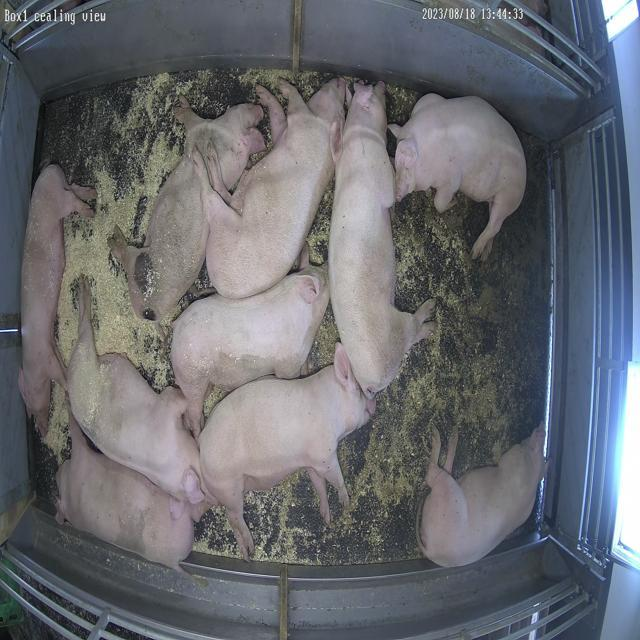Dirt: (341, 136, 550, 510)
Pig: (199, 344, 376, 560), (111, 97, 265, 322), (329, 82, 436, 398), (66, 279, 205, 504), (206, 78, 346, 298), (171, 267, 330, 432), (390, 93, 527, 258), (56, 419, 202, 570), (18, 164, 95, 436), (418, 426, 546, 568)
